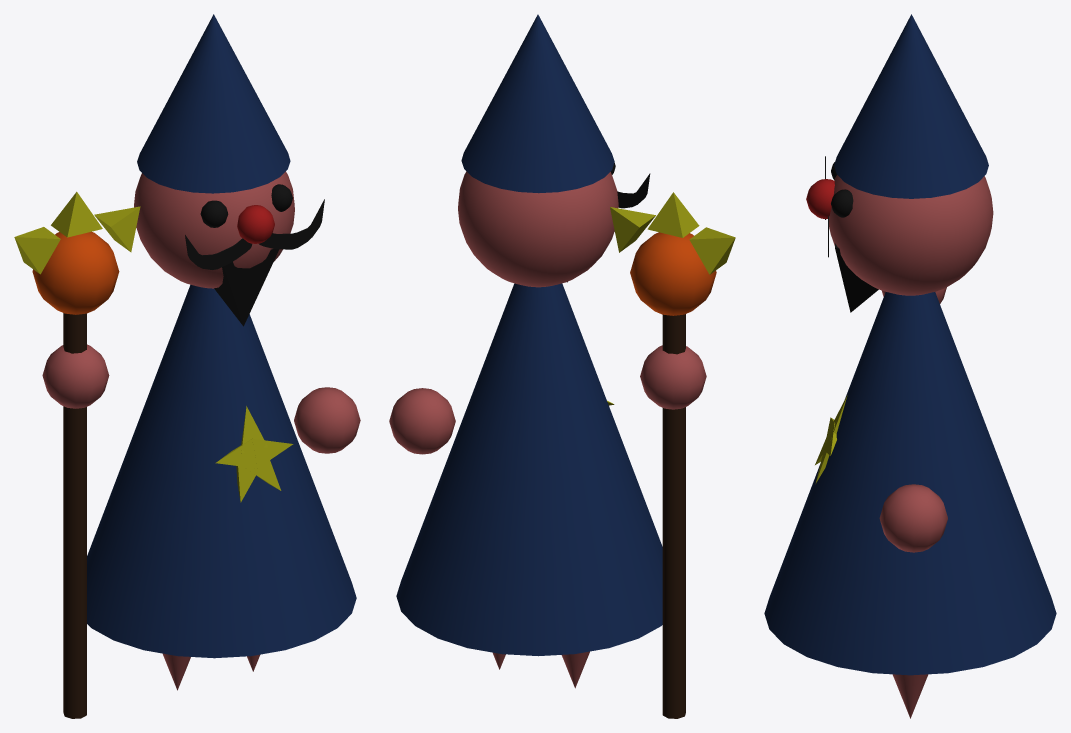
Rendered from WizardModel.FBX.
3 renders of one model, left to right at view 1: azimuth 30°, elevation 25°; view 2: azimuth 150°, elevation 25°; view 3: azimuth 270°, elevation 25°, orthographic. The views are drawn at different scales.
Visible parts, largest first — view 1: Wizard; view 2: Wizard; view 3: Wizard.
Boxes of the visible parts, bbox=[...] form: Wizard: bbox=[14, 14, 360, 718]; Wizard: bbox=[389, 14, 735, 718]; Wizard: bbox=[764, 14, 1056, 718].
Size of the model in its own units: 61.87 by 44.53 by 115.
